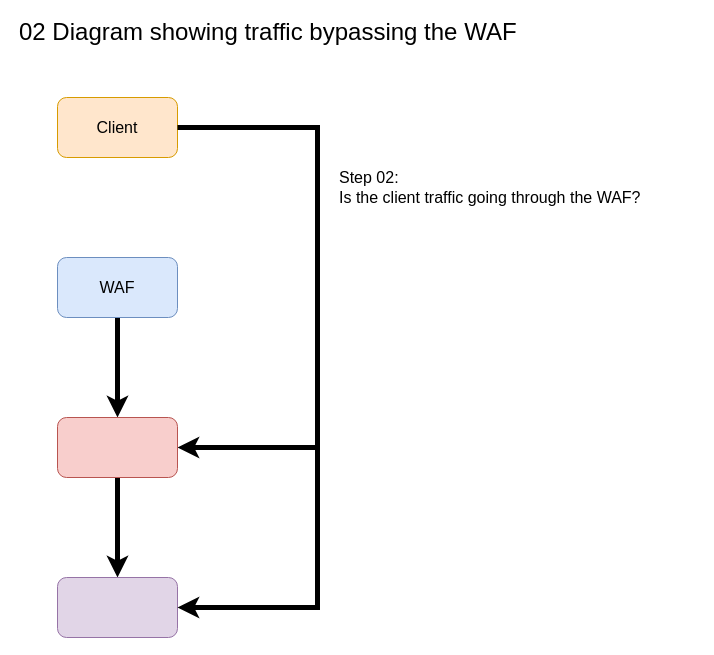
Image size: 714x655. Some labels were removed from this diagram. Here are the shapes that lost their labels. From the top down, the box of each, then its label:
(56, 416, 178, 478): Infrastructure
(56, 576, 178, 638): API/Web Application
